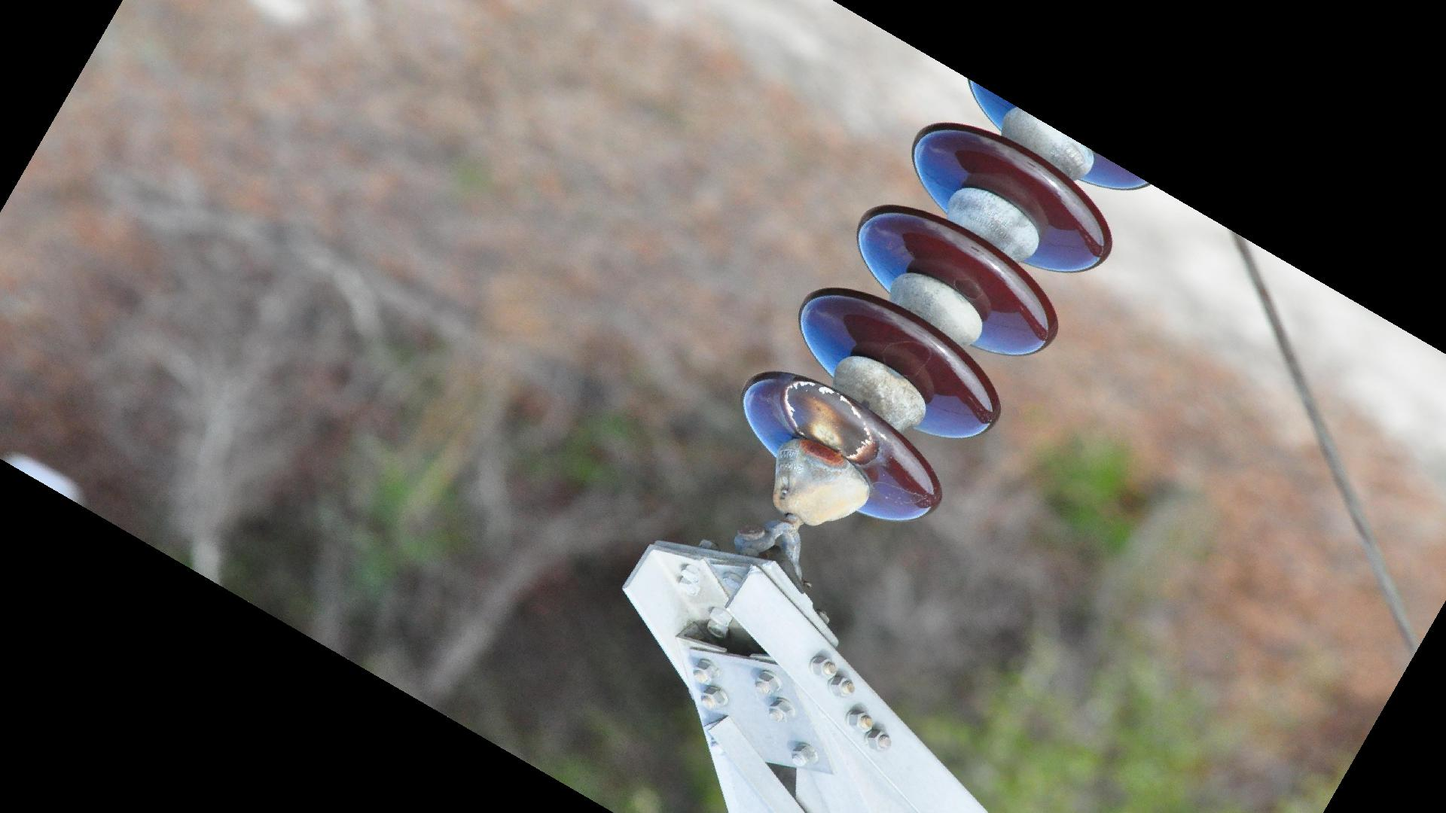insulator: (734, 72, 1157, 534)
insulator_flashover: (780, 378, 873, 461)
